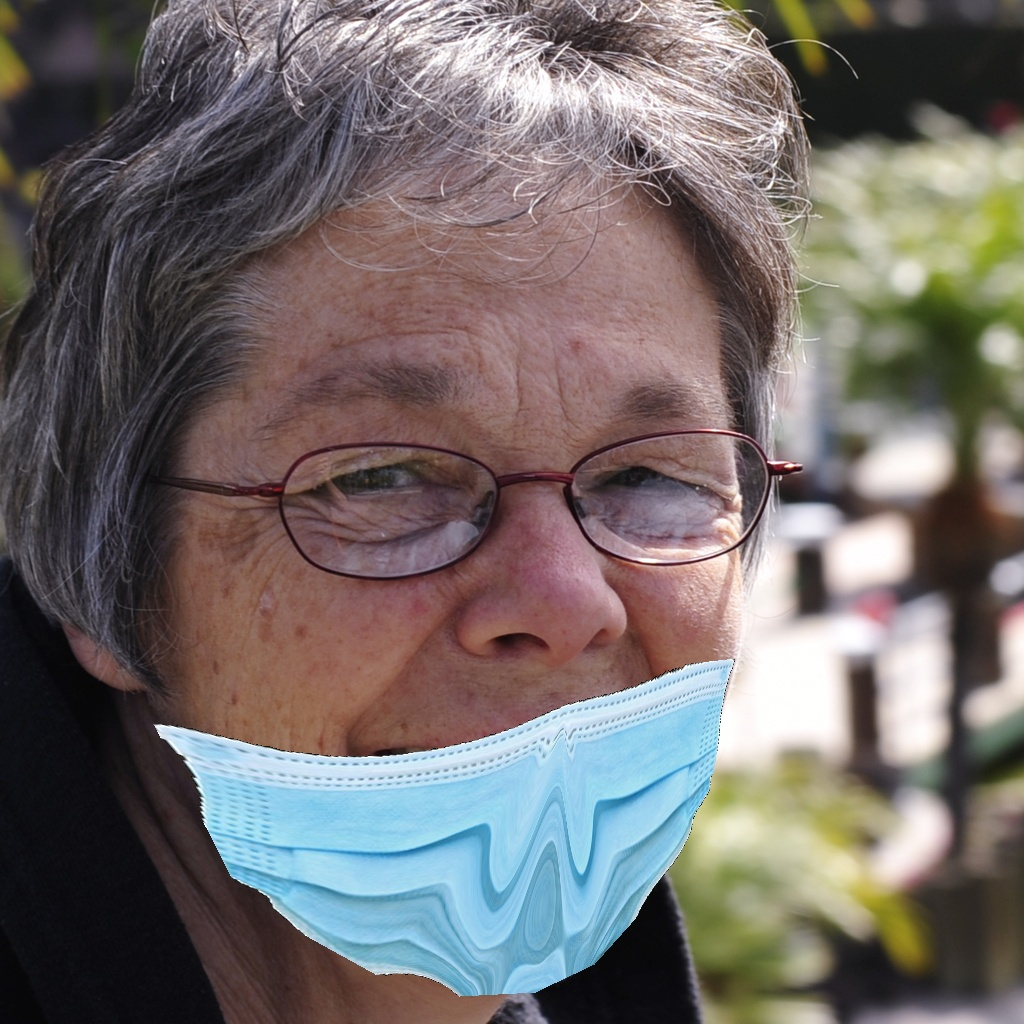mascarilla_mal_puesta: (222, 405, 749, 980)
